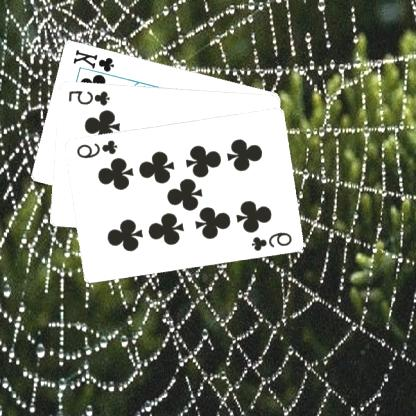5C: (68, 86, 112, 107)
9C: (250, 228, 295, 252), (75, 137, 121, 160)
KC: (72, 46, 119, 79)
